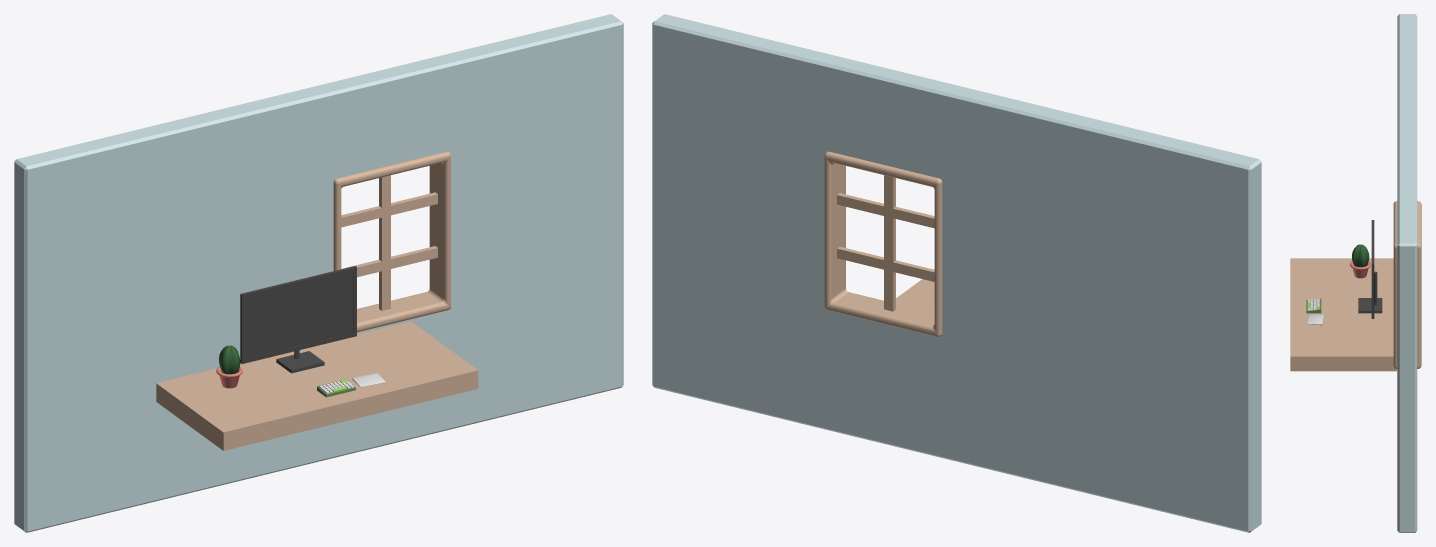
The model's file is room.gltf.
3 renders of one model, left to right at view 1: azimuth 30°, elevation 25°; view 2: azimuth 150°, elevation 25°; view 3: azimuth 270°, elevation 25°, orthographic. The views are drawn at different scales.
Visible parts, largest first — view 1: Plane.004, Plane.006, Plane.007, Cube.001, Plane.008; view 2: Plane.004, Cube.001, Plane.008, Plane.006; view 3: Plane.004, Plane.006, Cube.001, Plane.007, Plane.005, Sphere, Cylinder.001, trackpad.
Boxes of the visible parts, x1,y1,x2,y2 form: Plane.004: (14,14,623,532); Plane.006: (156,321,478,450); Plane.007: (240,266,356,363); Cube.001: (333,151,450,332); Plane.008: (341,175,437,310); Plane.004: (652,14,1261,532); Cube.001: (824,151,942,336); Plane.008: (837,175,934,311); Plane.006: (896,279,934,312); Plane.004: (1397,14,1417,532); Plane.006: (1290,258,1396,371); Cube.001: (1393,201,1421,368); Plane.007: (1371,220,1374,318); Plane.005: (1358,298,1382,313); Sphere: (1352,244,1369,267); Cylinder.001: (1350,261,1370,278); trackpad: (1306,314,1324,325).
Size of the model in its own units: 10.28 by 6.01 by 2.46.
